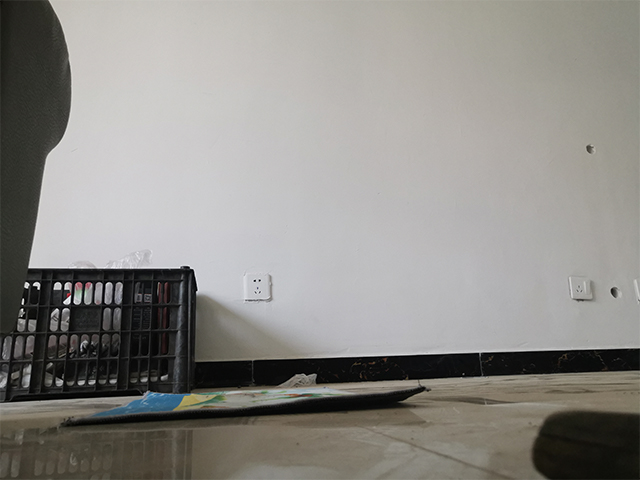carpet: (58, 384, 431, 428)
sofa: (1, 1, 74, 349)
